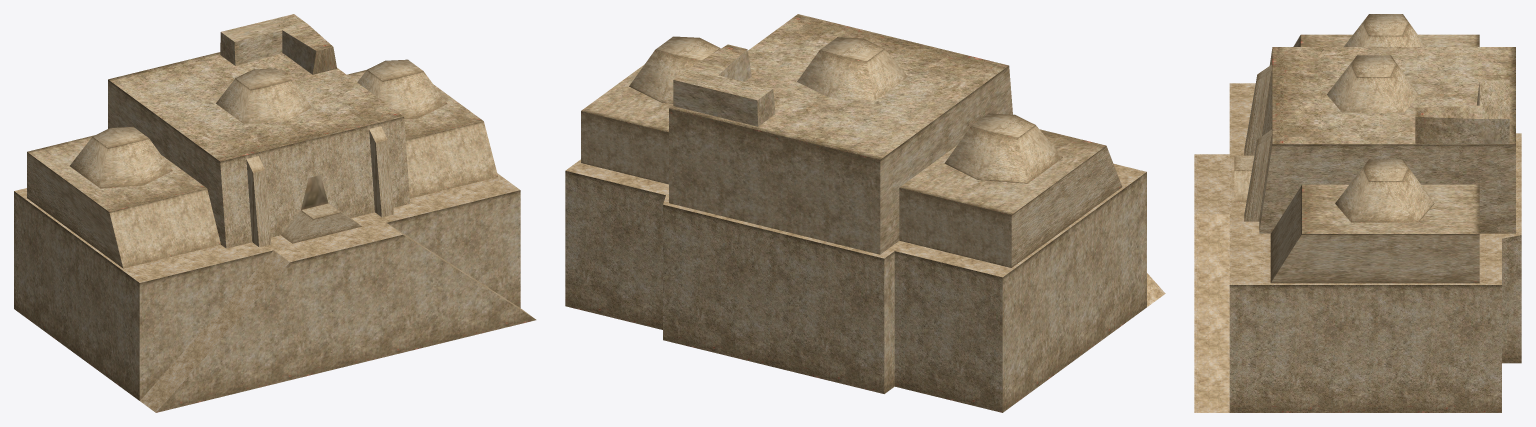
The model's file is ply_tato_assoc_hall_civ_s02_r0_mesh_l2.fbx.
3 views of the same model, side by side, from view 1: azimuth 30°, elevation 25°; view 2: azimuth 150°, elevation 25°; view 3: azimuth 270°, elevation 25° (orthographic). The views are drawn at different scales.
Visible parts, largest first — view 1: mesh_node; view 2: mesh_node; view 3: mesh_node.
Part boxes in pixels (x1=…): mesh_node: x1=14, y1=14, x2=536, y2=412; mesh_node: x1=565, y1=14, x2=1165, y2=412; mesh_node: x1=1194, y1=14, x2=1521, y2=412.
Size of the model in its own units: 54.03 by 31.02 by 37.08.
Materials: 2 (2 with a texture image).
